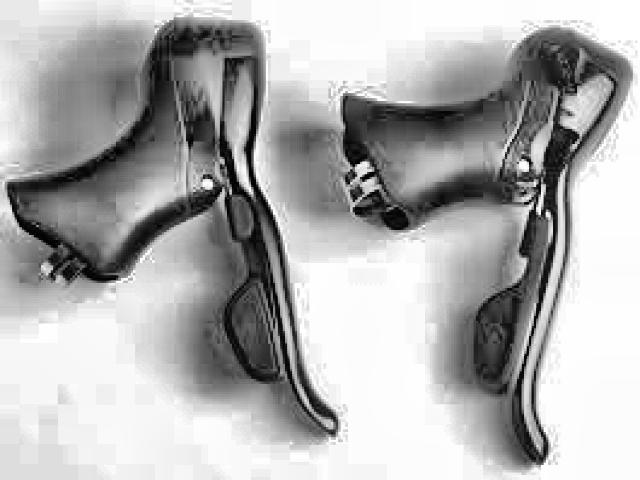sti_shifter: (4, 12, 340, 452), (340, 23, 636, 469)
